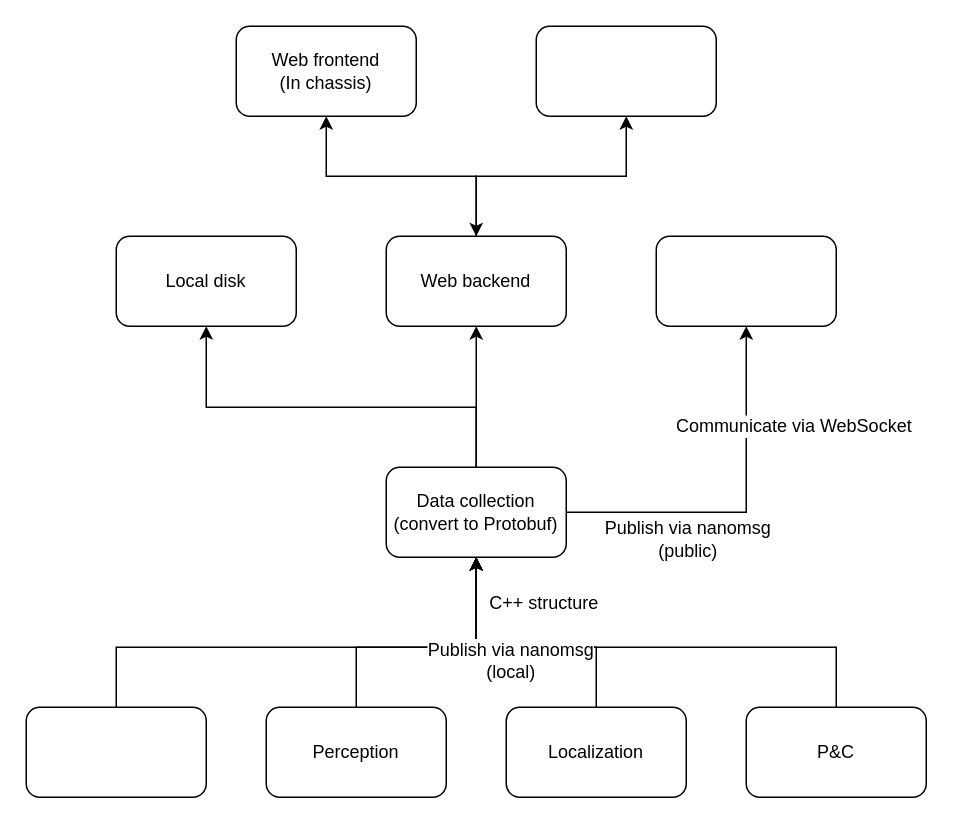
Some shapes in this 953 by 824 pixel diagram are drawn without their labels. Each missing label, with the box of its shape:
Chassis: (25, 706, 206, 797)
Cloud: (655, 235, 836, 326)
Web frontend (Remote tablet): (535, 25, 716, 116)
